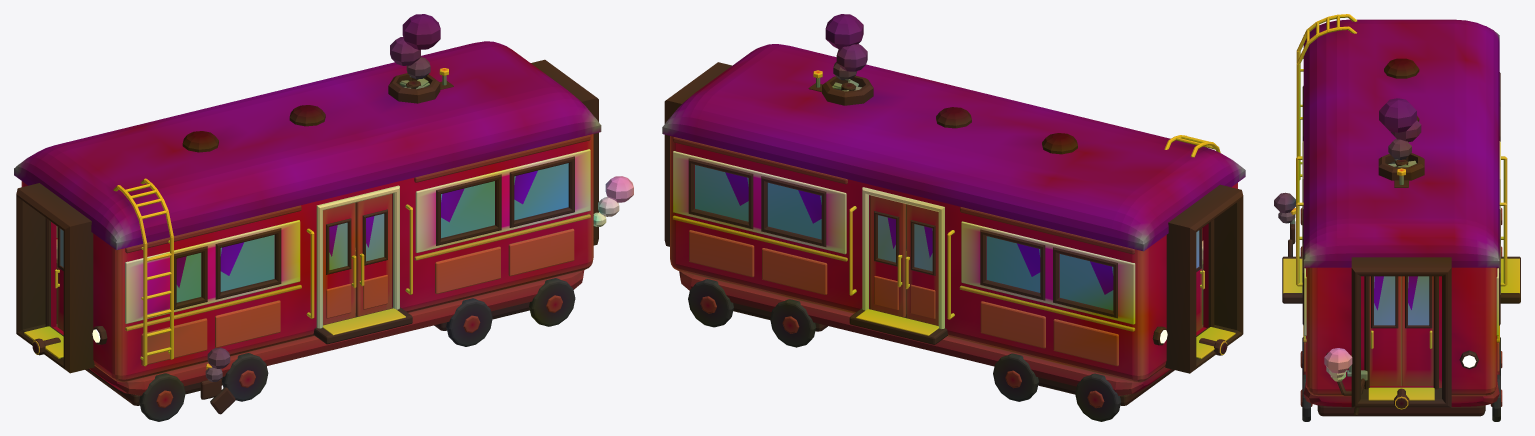
The model's file is DieselCoach_Doors_Blockout.glb.
3 renders of one model, left to right at view 1: azimuth 30°, elevation 25°; view 2: azimuth 150°, elevation 25°; view 3: azimuth 270°, elevation 25°, orthographic. The views are drawn at different scales.
Parts seen in each view (by area): view 1: Roof, Body, Windows, Ends, Underframe, Livery, WindowBand, SideDoorLeaf_R, SideDoorLeaf_L, SideDoorSill, RoofLadder, Broken_Bits__Vent (+4 smaller); view 2: Roof, Body, Windows, Underframe, Ends, Livery, WindowBand, SideDoorLeaf_R_Far, SideDoorLeaf_L_Far, SideDoorSill_Far, SideDoorFrame_Far, Broken_Bits__Vent (+1 smaller); view 3: Roof, Body, Ends, EndDoorLeaf_L_Front, Underframe, EndDoorLeaf_R_Front, Broken_Bits__Vent, SideDoorSill_Far, SideDoorSill, RoofLadder, Broken_Bits__BrakeHose, Windows (+3 smaller).
Part boxes in pixels (x1,y1,x2,y2): Roof: (14, 41, 601, 250); Body: (21, 134, 593, 382); Windows: (56, 156, 574, 309); Ends: (16, 59, 598, 373); Underframe: (85, 270, 584, 421); Livery: (125, 135, 590, 365); WindowBand: (125, 149, 590, 323); SideDoorLeaf_R: (355, 194, 392, 316); SideDoorLeaf_L: (323, 202, 356, 324); SideDoorSill: (306, 204, 412, 344); RoofLadder: (113, 178, 173, 366); Broken_Bits__Vent: (390, 14, 440, 89); Roof: (662, 44, 1245, 251); Body: (670, 136, 1237, 382); Windows: (688, 158, 1117, 318); Underframe: (679, 271, 1174, 421); Ends: (664, 62, 1243, 373); Livery: (672, 137, 1135, 366); WindowBand: (673, 151, 1135, 324); SideDoorLeaf_R_Far: (869, 195, 906, 316); SideDoorLeaf_L_Far: (905, 204, 938, 325); SideDoorSill_Far: (849, 206, 954, 344); SideDoorFrame_Far: (862, 187, 944, 328); Broken_Bits__Vent: (825, 14, 867, 90); Roof: (1303, 19, 1499, 267); Body: (1306, 267, 1497, 396); Ends: (1326, 257, 1478, 407); EndDoorLeaf_L_Front: (1369, 276, 1401, 386); Underframe: (1300, 208, 1502, 421); EndDoorLeaf_R_Front: (1402, 276, 1433, 386); Broken_Bits__Vent: (1379, 98, 1421, 167); SideDoorSill_Far: (1499, 156, 1520, 303); SideDoorSill: (1282, 156, 1303, 303); RoofLadder: (1296, 14, 1357, 179); Broken_Bits__BrakeHose: (1324, 348, 1365, 416); Windows: (1302, 72, 1500, 325).
Bounding box in the file's own units: 8.45 × 4.21 × 3.35.
